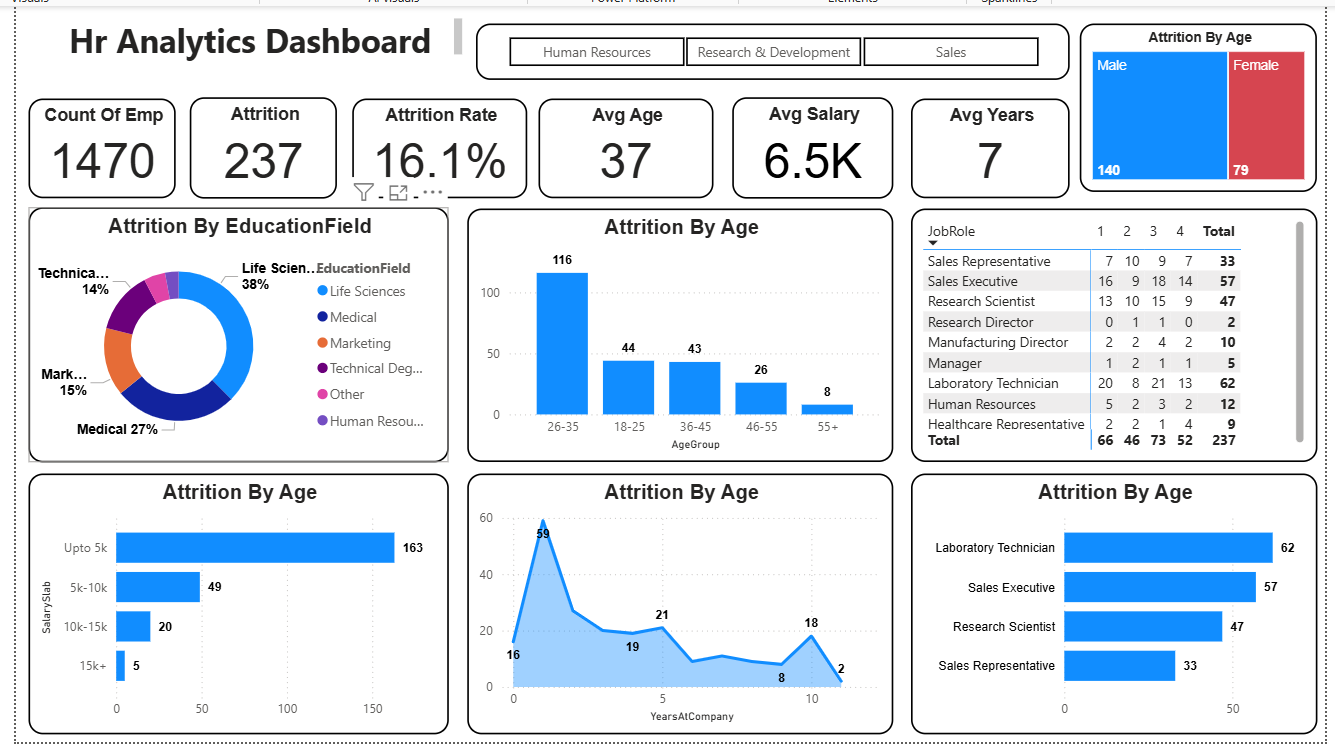

The dashboard page shown, as its layout file describes it:
{"tool":"powerbi","page":{"name":"Page 1","canvas":[1280,720],"ordinal":0},"visuals":[{"type":"card","title":"Count Of Emp","fields":{"Values":["CountNonNull(HR_Analytics.EmpID)"]},"box":[12.2,90.5,144.3,97.8],"z":0},{"type":"card","title":"Avg Age","fields":{"Values":["Avg(HR_Analytics.Age)"]},"box":[511.1,90.5,171.2,97.8],"z":1000},{"type":"card","title":"Attrition Rate","fields":{"Values":["HR_Analytics.AttritionRate"]},"box":[328.9,90.5,171.2,97.8],"z":2000},{"type":"card","title":"Attrition","fields":{"Values":["Sum(HR_Analytics.Attrition Count)"]},"box":[170,89.3,144.3,99],"z":3000},{"type":"card","title":"Avg Salary","fields":{"Values":["Avg(HR_Analytics.MonthlyIncome)"]},"box":[700.7,89.3,157.7,99],"z":4000},{"type":"card","title":"Avg Years","fields":{"Values":["Avg(HR_Analytics.YearsAtCompany)"]},"box":[875.5,90.5,155.3,97.8],"z":5000},{"type":"donutChart","title":"Attrition  By EducationField","fields":{"Category":["HR_Analytics.EducationField"],"Y":["Sum(HR_Analytics.Attrition Count)"]},"box":[12.2,196.9,410.9,249.5],"z":6000},{"type":"columnChart","title":"Attrition  By Age","fields":{"Category":["HR_Analytics.AgeGroup"],"Y":["Sum(HR_Analytics.Attrition Count)"]},"box":[441.4,198.1,417,248.2],"z":7000},{"type":"pivotTable","title":"Attrition  By Age","fields":{"Values":["Sum(HR_Analytics.Attrition Count)"],"Rows":["HR_Analytics.JobRole"],"Columns":["HR_Analytics.JobSatisfaction"]},"box":[875.5,198.1,397.4,248.2],"z":8000},{"type":"barChart","title":"Attrition  By Age","fields":{"Category":["HR_Analytics.SalarySlab"],"Y":["Sum(HR_Analytics.Attrition Count)"]},"box":[12.2,457.3,410.9,255.6],"z":9000},{"type":"barChart","title":"Attrition  By Age","fields":{"Y":["Sum(HR_Analytics.Attrition Count)"],"Category":["HR_Analytics.JobRole"]},"box":[875.5,457.3,397.4,255.6],"z":10000},{"type":"areaChart","title":"Attrition  By Age","fields":{"Category":["HR_Analytics.YearsAtCompany"],"Y":["Sum(HR_Analytics.Attrition Count)"]},"box":[441.4,457.3,417,255.6],"z":11000},{"type":"treemap","title":"Attrition  By Age","fields":{"Group":["HR_Analytics.Gender"],"Values":["Sum(HR_Analytics.Attrition Count)"]},"box":[1040.6,17.1,232.3,165.1],"z":12000},{"type":"slicer","fields":{"Values":["HR_Analytics.Department"]},"box":[450,17.1,580.8,55],"z":13000},{"type":"textbox","box":[24.5,7.3,417,73.4],"z":14000}]}

Visuals, with their boxes in screenshot pixels (x1, y1, x2, y2):
"Count Of Emp" card: l=26, t=96, r=173, b=195
"Avg Age" card: l=535, t=96, r=709, b=195
"Attrition Rate" card: l=349, t=96, r=524, b=195
"Attrition" card: l=187, t=94, r=334, b=195
"Avg Salary" card: l=728, t=94, r=889, b=195
"Avg Years" card: l=906, t=96, r=1064, b=195
"Attrition  By EducationField" donutChart: l=26, t=204, r=445, b=458
"Attrition  By Age" columnChart: l=464, t=205, r=889, b=458
"Attrition  By Age" pivotTable: l=906, t=205, r=1311, b=458
"Attrition  By Age" barChart: l=26, t=469, r=445, b=730
"Attrition  By Age" barChart: l=906, t=469, r=1311, b=730
"Attrition  By Age" areaChart: l=464, t=469, r=889, b=730
"Attrition  By Age" treemap: l=1074, t=21, r=1311, b=189
slicer - HR_Analytics.Department: l=472, t=21, r=1064, b=77
textbox: l=39, t=11, r=464, b=86
